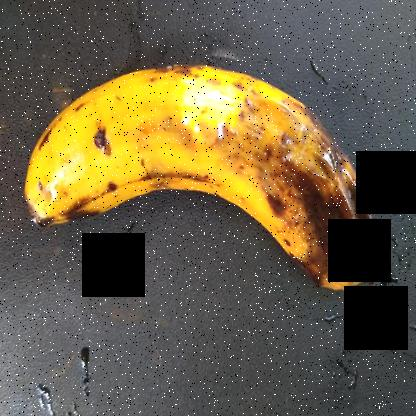overripe: (14, 46, 256, 244)
rotten: (209, 42, 388, 320)
